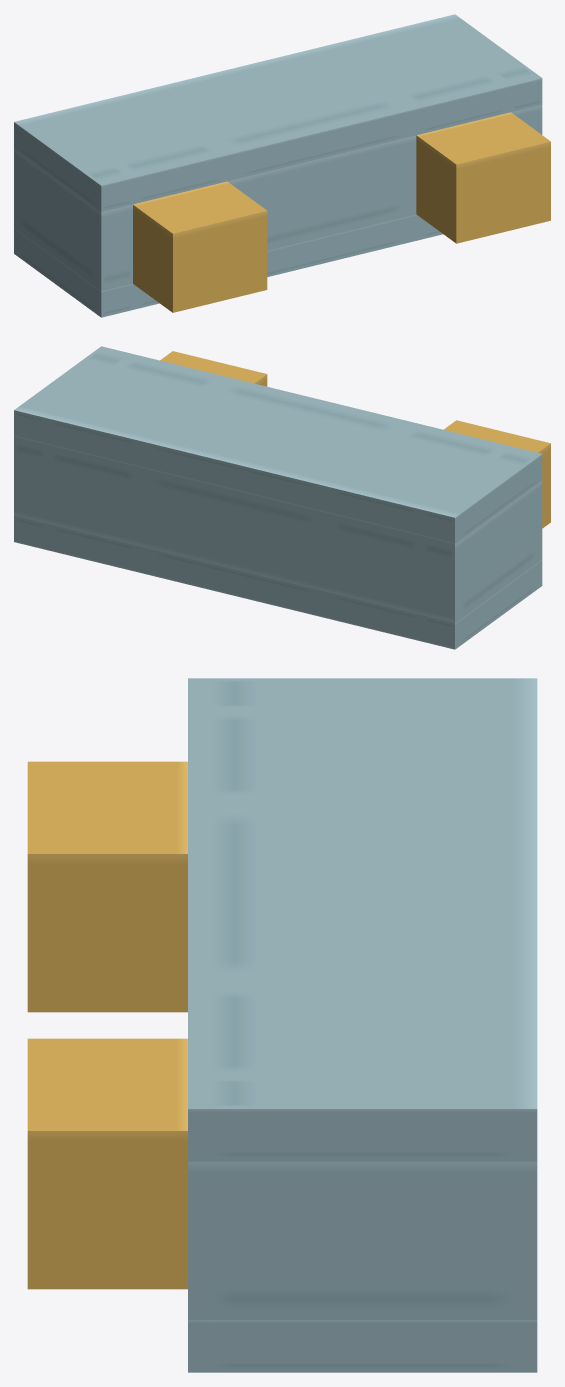
File: sc_pickup_battering_ram.obj
The picture shows the model from 3 angles, top to bottom: view 1: azimuth 30°, elevation 25°; view 2: azimuth 150°, elevation 25°; view 3: azimuth 270°, elevation 25°; orthographic projection. The views are drawn at different scales.
Size of the model in its own units: 7 by 2 by 3.5.
Materials: 1 (1 with a texture image).
